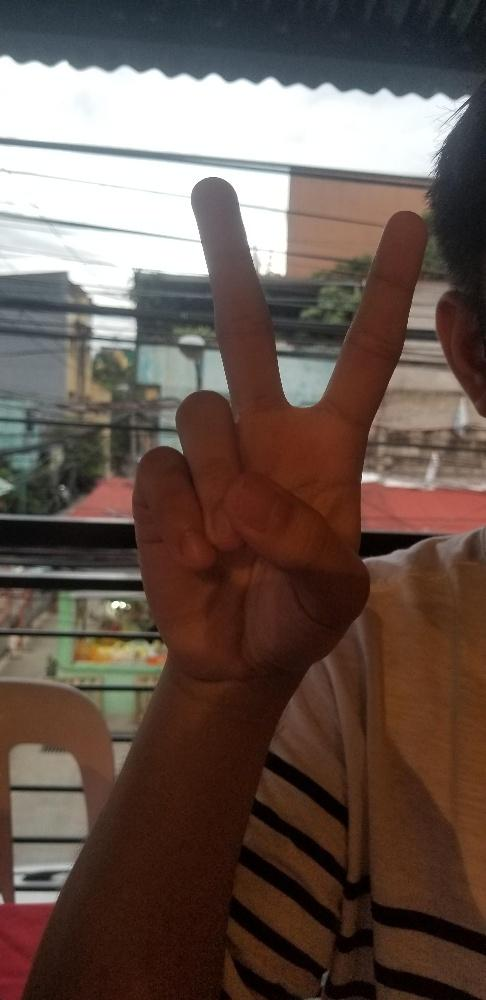v: (131, 175, 427, 678)
